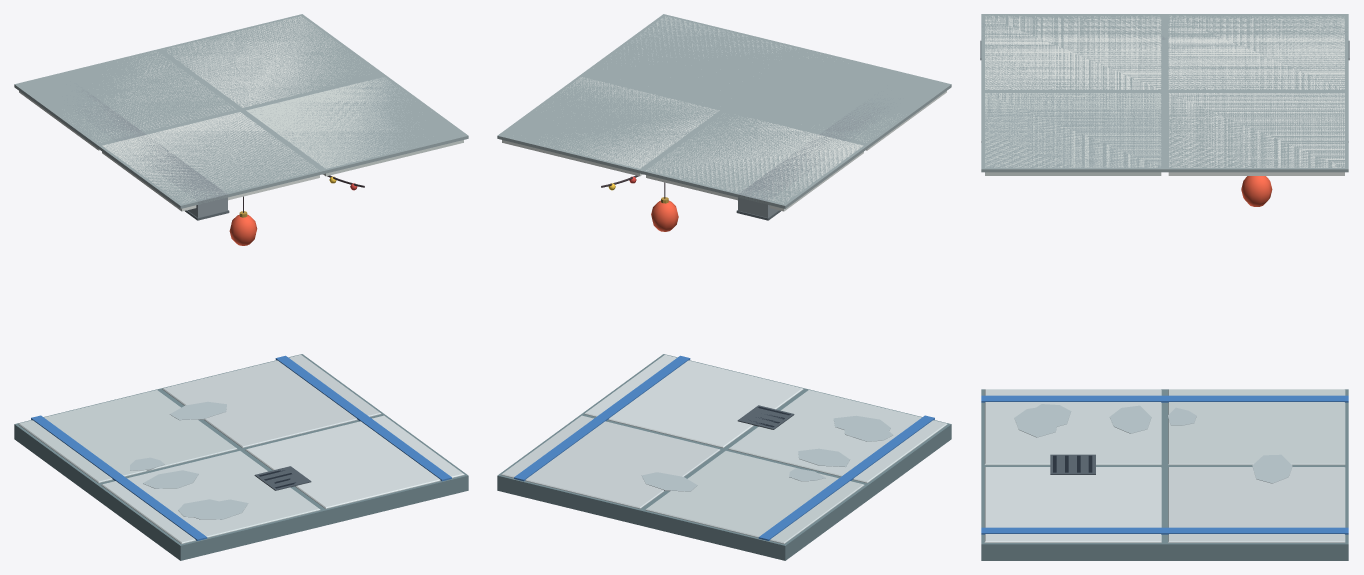
The model's file is floor_a.fbx.
3 views of the same model, side by side, from view 1: azimuth 30°, elevation 25°; view 2: azimuth 150°, elevation 25°; view 3: azimuth 270°, elevation 25° (orthographic). The views are drawn at different scales.
Visible parts, largest first — view 1: floor_a, Ceiling; view 2: floor_a, Ceiling; view 3: floor_a, Ceiling.
Boxes of the visible parts, x1,y1,x2,y2 form: floor_a: [14, 354, 468, 560]; Ceiling: [14, 14, 468, 245]; floor_a: [497, 354, 951, 560]; Ceiling: [497, 14, 951, 231]; floor_a: [981, 389, 1348, 560]; Ceiling: [980, 14, 1349, 206].
Size of the model in its own units: 4 by 4.71 by 4.02.
